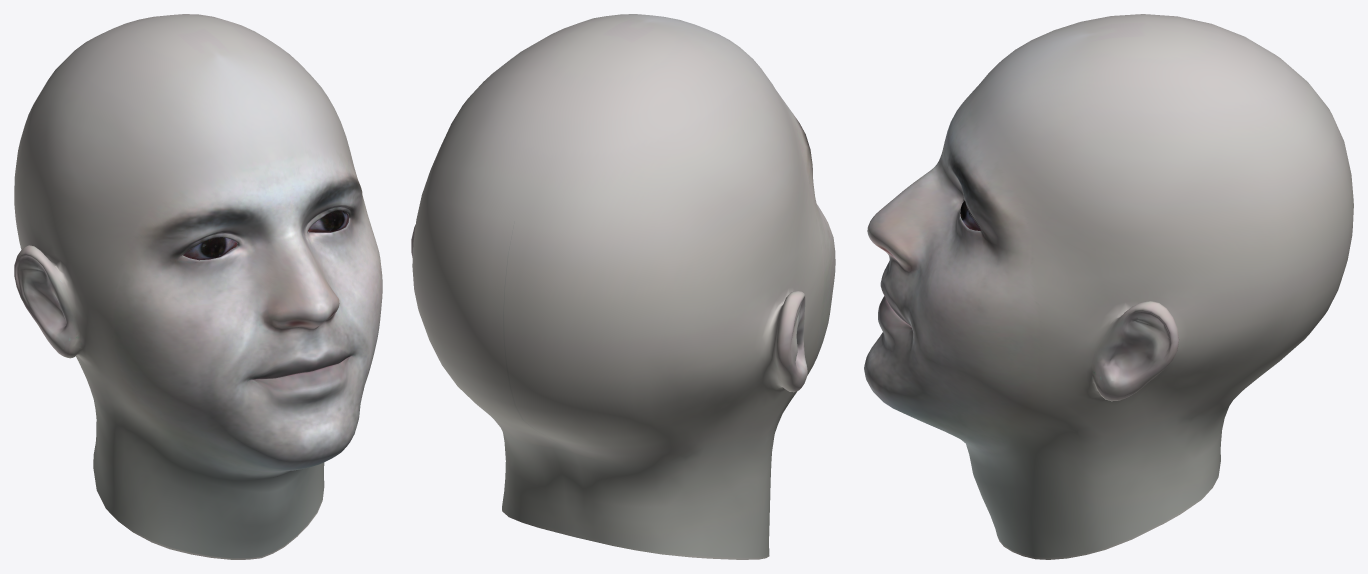
3 views of the same model, side by side, from view 1: azimuth 30°, elevation 25°; view 2: azimuth 150°, elevation 25°; view 3: azimuth 270°, elevation 25° (orthographic). The views are drawn at different scales.
Visible parts, largest first — view 1: skin_hi, eyeR_hi, eyeL_hi; view 2: skin_hi; view 3: skin_hi.
Boxes of the visible parts, x1,y1,x2,y2 form: skin_hi: (14,14,382,559); eyeR_hi: (183,237,236,260); eyeL_hi: (308,210,349,232); skin_hi: (411,14,835,559); skin_hi: (864,14,1353,559).
Size of the model in its own units: 202 by 279 by 245.
